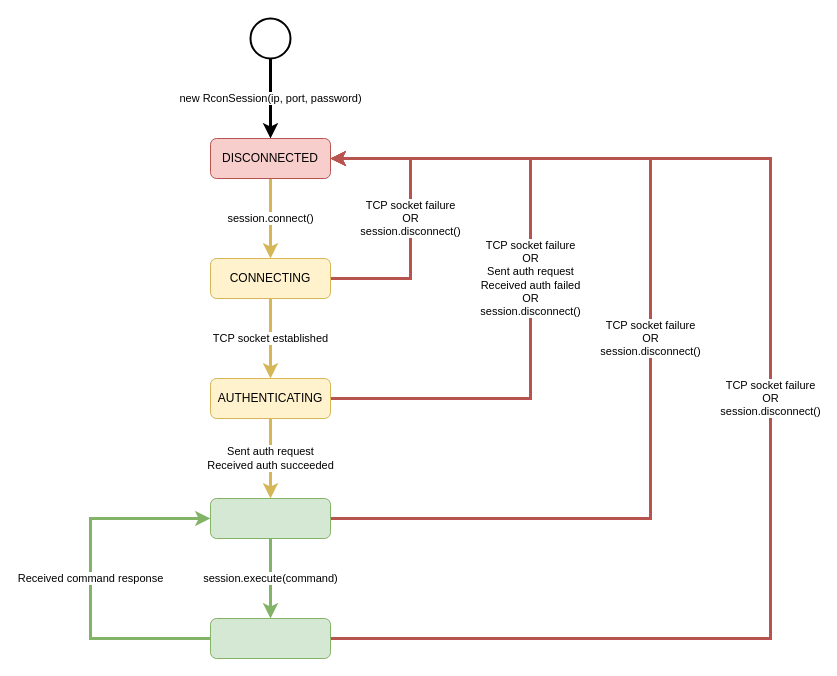
The diagram is 837 pixels wide and 676 high, and some of its shapes have lost their labels. The shapes that lost their labels are listed below. From the top down, each one's centre as x and y in pixels, then its label:
the point at 270,518: CONNECTED
the point at 270,638: EXECUTING
